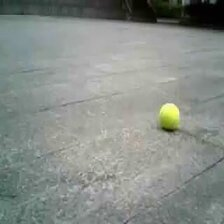tennis: (159, 104, 180, 128)
